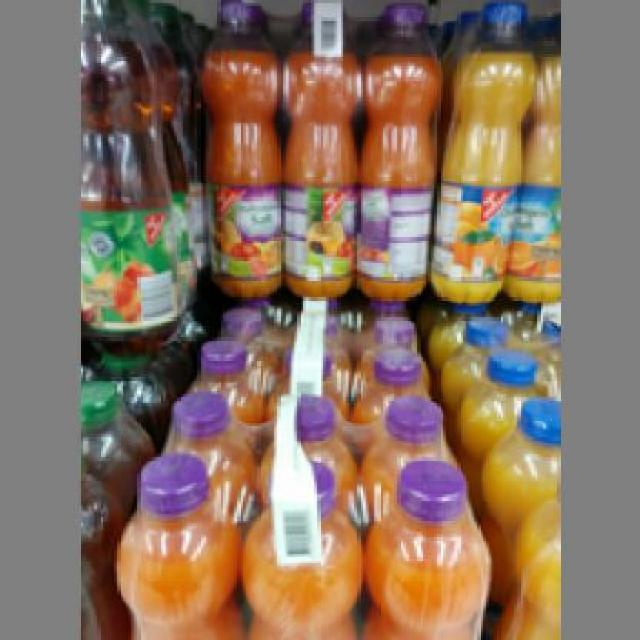Juice: (76, 0, 178, 352), (432, 0, 534, 303), (192, 0, 280, 297), (358, 0, 442, 300), (273, 0, 358, 295)
